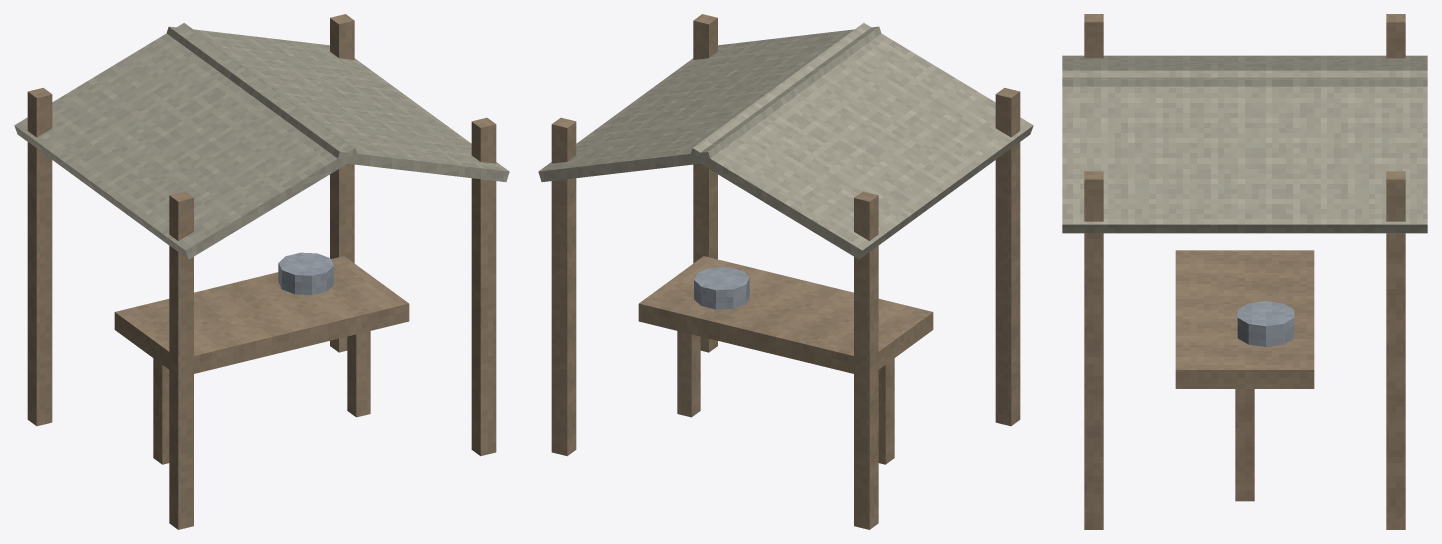
The model's file is level_blockout_camp_cook_shelter.glb.
The picture shows the model from 3 angles, left to right: view 1: azimuth 30°, elevation 25°; view 2: azimuth 150°, elevation 25°; view 3: azimuth 270°, elevation 25°; orthographic projection. The views are drawn at different scales.
Parts seen in each view (by area): view 1: level_blockout_camp_cook_shelter; view 2: level_blockout_camp_cook_shelter; view 3: level_blockout_camp_cook_shelter.
Part boxes in pixels (<box>): level_blockout_camp_cook_shelter: <box>14,14,509,529</box>; level_blockout_camp_cook_shelter: <box>538,14,1033,529</box>; level_blockout_camp_cook_shelter: <box>1062,14,1427,529</box>.
Bounding box in the file's own units: 2.27 × 2.34 × 2.08.
3 materials, 3 textured.
